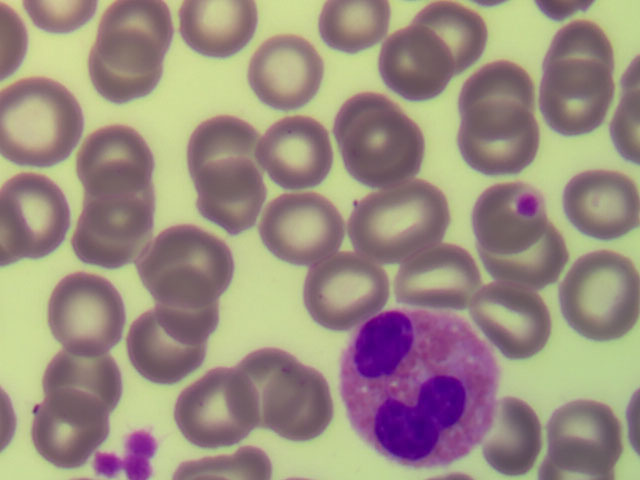Platelets: (126, 429, 159, 459), (119, 456, 156, 480), (92, 451, 124, 475), (517, 193, 540, 217)
RBC: (33, 347, 130, 421), (3, 80, 78, 166), (349, 190, 446, 253), (53, 269, 125, 353), (149, 229, 230, 303), (567, 254, 638, 337), (130, 307, 204, 384), (463, 99, 540, 173), (232, 351, 308, 424), (268, 191, 344, 264), (3, 178, 67, 263), (350, 116, 425, 188), (465, 60, 536, 133), (25, 391, 95, 465), (175, 376, 257, 439), (543, 60, 611, 135), (261, 113, 333, 183), (262, 371, 332, 441), (408, 2, 487, 64), (258, 34, 324, 108), (473, 184, 547, 250), (86, 124, 152, 197), (550, 407, 623, 473), (392, 254, 485, 305), (103, 1, 171, 70), (197, 120, 265, 189), (483, 227, 563, 285), (200, 162, 266, 232), (91, 36, 162, 100), (478, 280, 565, 332), (378, 37, 454, 96), (151, 281, 222, 343), (308, 254, 380, 315), (552, 21, 614, 90), (84, 197, 143, 269), (89, 178, 155, 241), (569, 178, 640, 236), (485, 401, 540, 469), (179, 1, 251, 51), (340, 96, 404, 150), (322, 1, 380, 54), (173, 455, 271, 480), (27, 1, 96, 33), (1, 5, 26, 80), (624, 60, 640, 163), (532, 1, 596, 16), (2, 388, 16, 452), (629, 389, 640, 451)
WBC: (349, 309, 489, 452)
